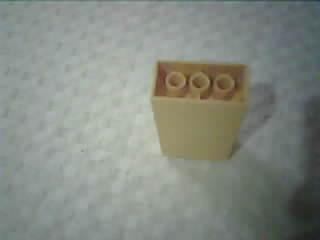lego: (148, 57, 250, 162)
